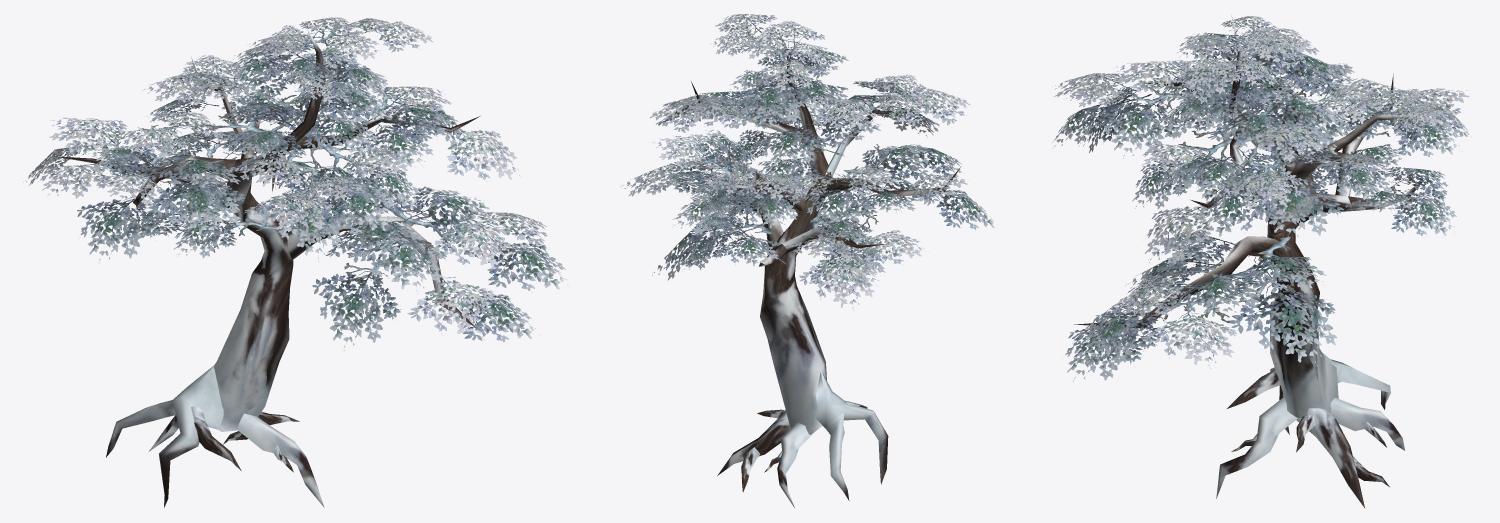
File: environment_Tree_xue_004A.FBX
3 views of the same model, side by side, from view 1: azimuth 30°, elevation 25°; view 2: azimuth 150°, elevation 25°; view 3: azimuth 270°, elevation 25° (orthographic). The views are drawn at different scales.
Parts seen in each view (by area): view 1: environment_Tree_xue_004A_02, environment_Tree_xue_004A_01; view 2: environment_Tree_xue_004A_02, environment_Tree_xue_004A_01; view 3: environment_Tree_xue_004A_02, environment_Tree_xue_004A_01.
Boxes of the visible parts, <box> form: environment_Tree_xue_004A_02: <box>23,17,568,350</box>; environment_Tree_xue_004A_01: <box>54,30,480,507</box>; environment_Tree_xue_004A_02: <box>620,14,994,310</box>; environment_Tree_xue_004A_01: <box>691,33,961,507</box>; environment_Tree_xue_004A_02: <box>1052,16,1469,381</box>; environment_Tree_xue_004A_01: <box>1074,15,1440,507</box>.
Size of the model in its own units: 546 by 448 by 533.
Materials: 2 (2 with a texture image).
